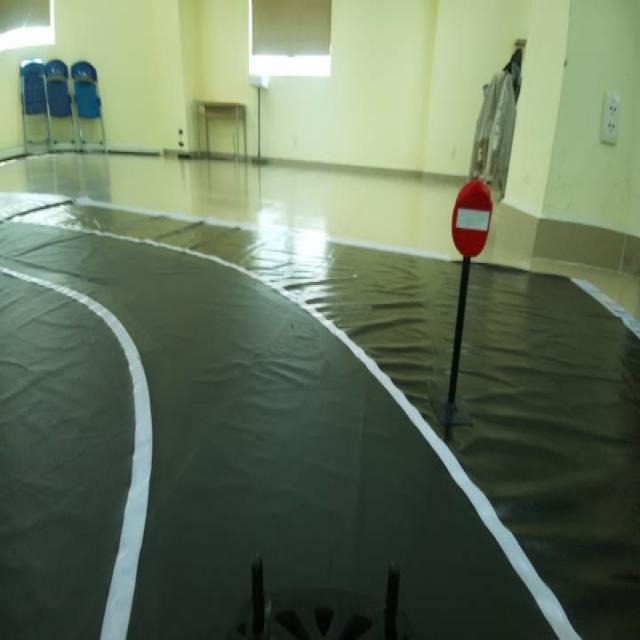no_entry: (450, 173, 495, 267)
